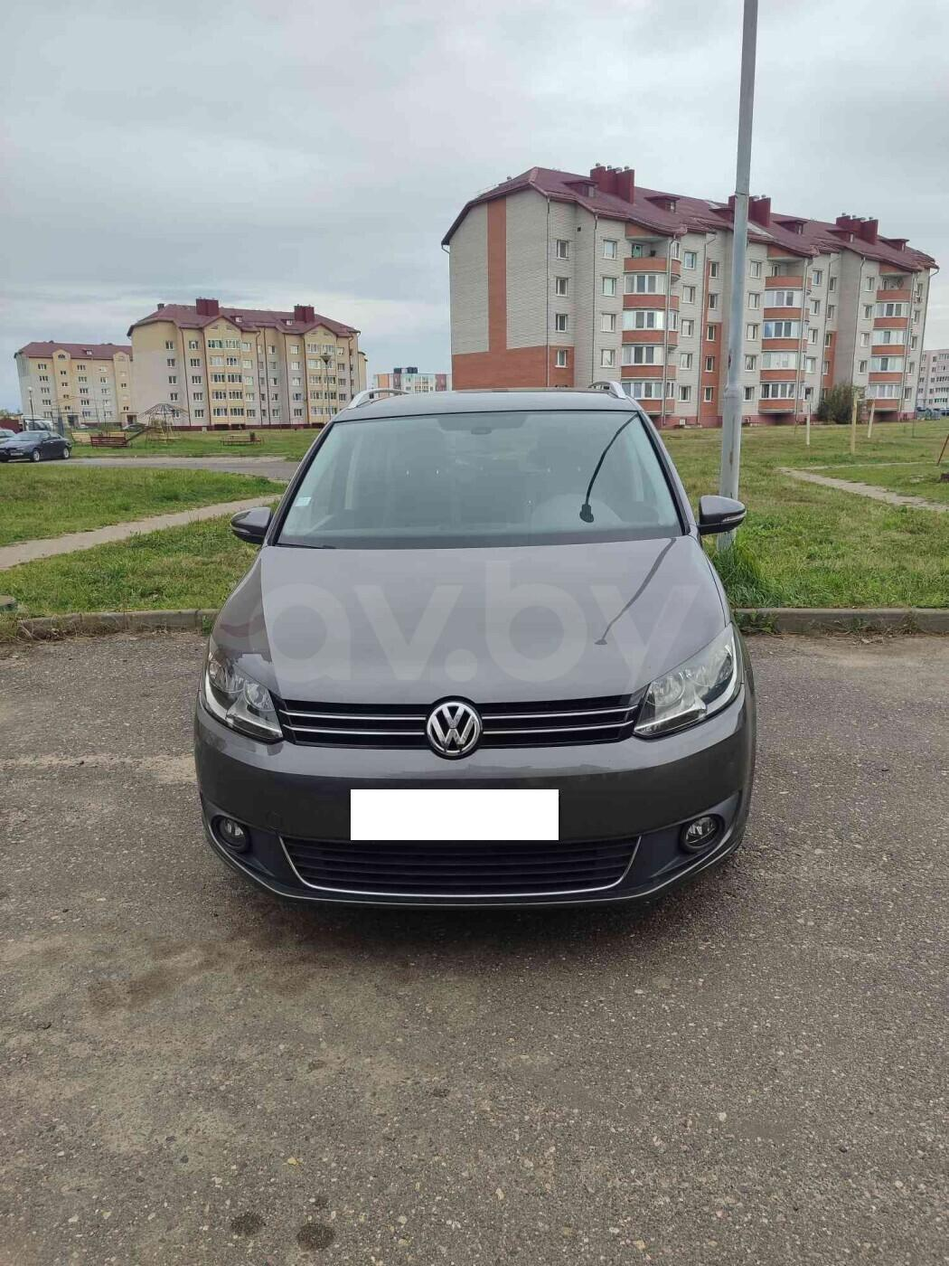Touran_2010-2015: (193, 380, 774, 913)
